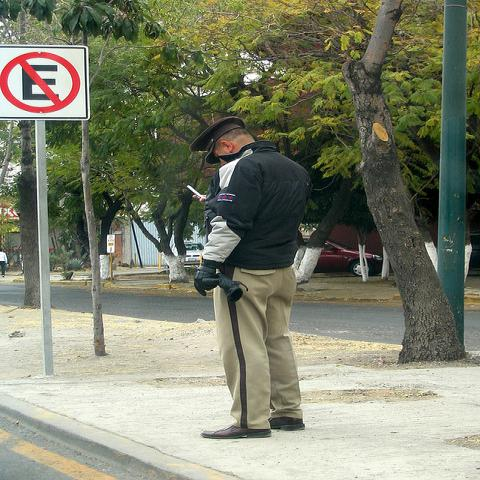car: (303, 236, 383, 277), (170, 241, 206, 265)
